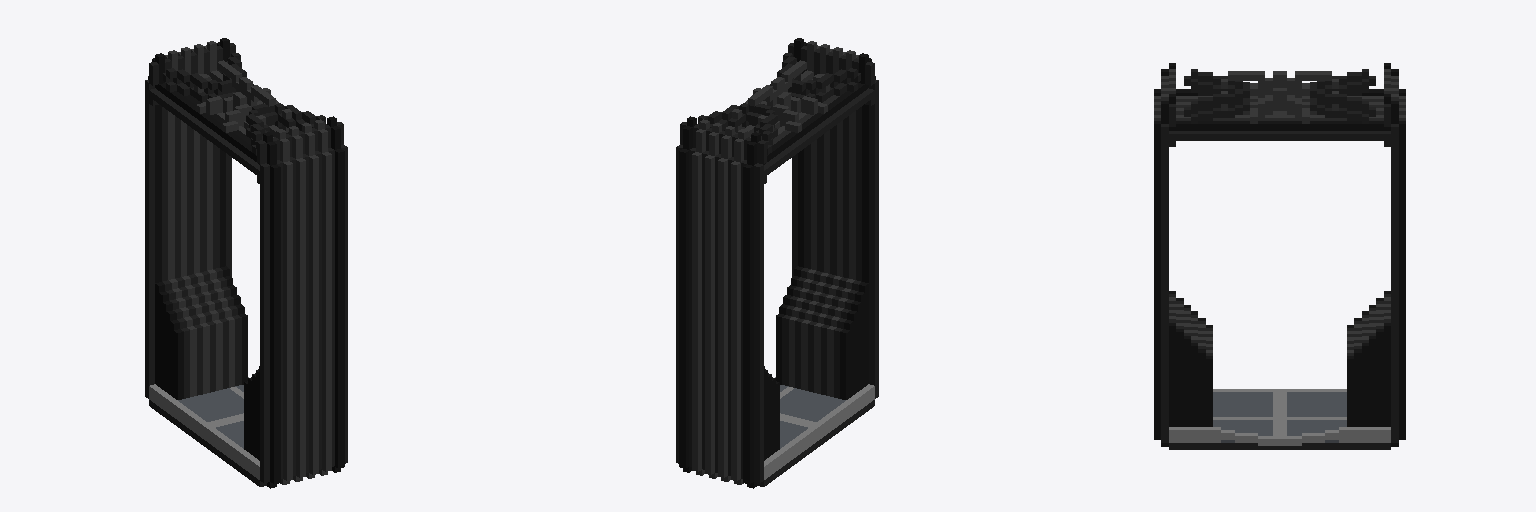
3 renders of one model, left to right at view 1: azimuth 30°, elevation 25°; view 2: azimuth 150°, elevation 25°; view 3: azimuth 270°, elevation 25°, orthographic.
Visible parts, largest first — view 1: FRAME; view 2: FRAME; view 3: FRAME.
Part boxes in pixels (bbox=[...]): FRAME: bbox=[145, 38, 347, 488]; FRAME: bbox=[676, 38, 878, 488]; FRAME: bbox=[1154, 63, 1405, 449].
Bounding box in the file's own units: 1 × 3.31 × 2.12.
Materials: 2 (1 with a texture image).